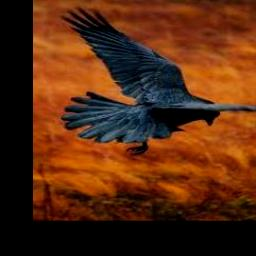Crow: (59, 5, 256, 154)
